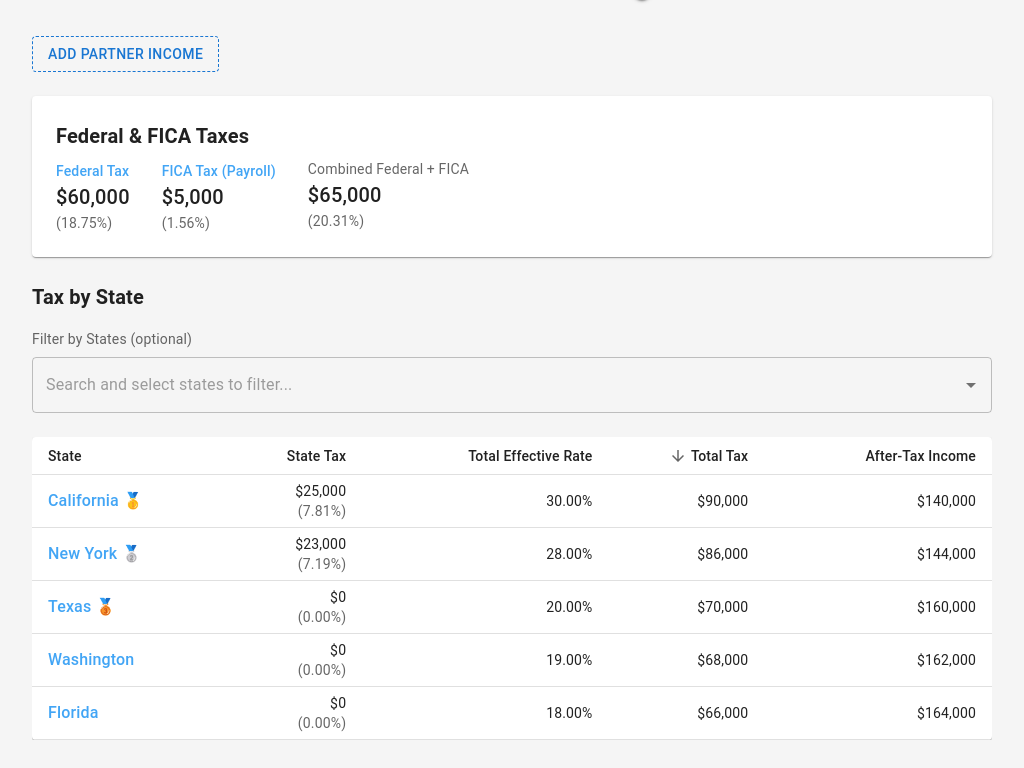
UsTaxTable › ranks emojis based on filtered states, not all states
(page scrolled)
Expected: the button "California 🥇" is shown, 48,489 -> 143,513
Press the mouse on the dropdown with placeholder "Search and select states to filter..." at [497, 385], box 41,366 -> 953,404
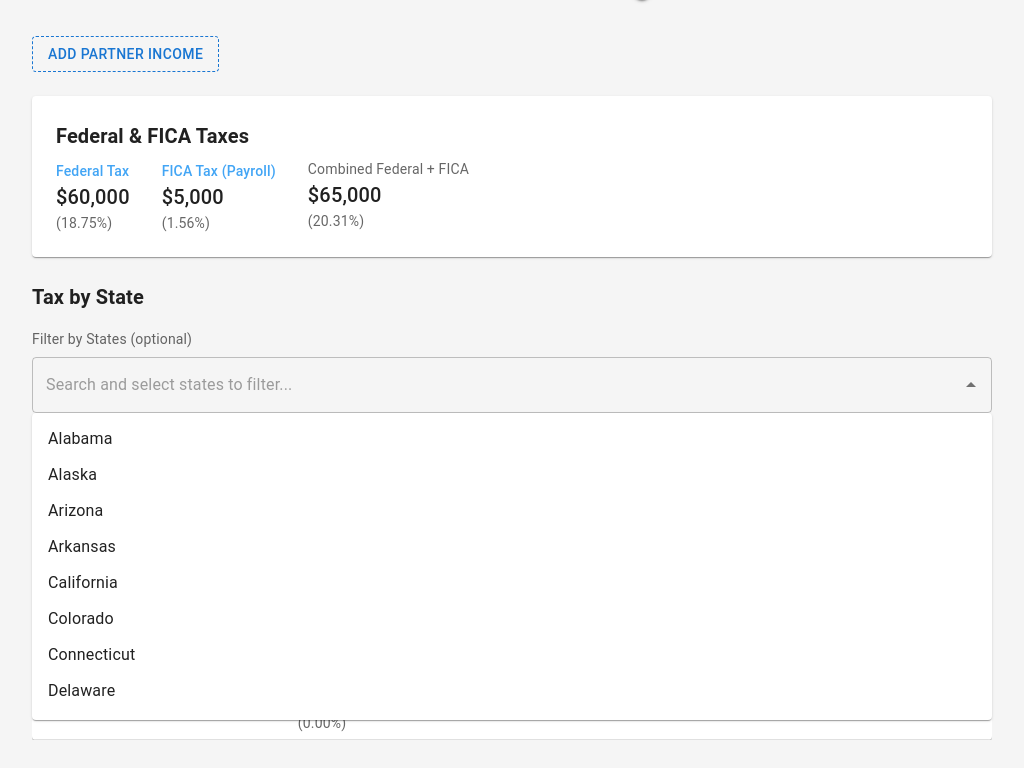
Click the option "California".
click(83, 582)  # box 48,573 -> 118,592
(page scrolled)
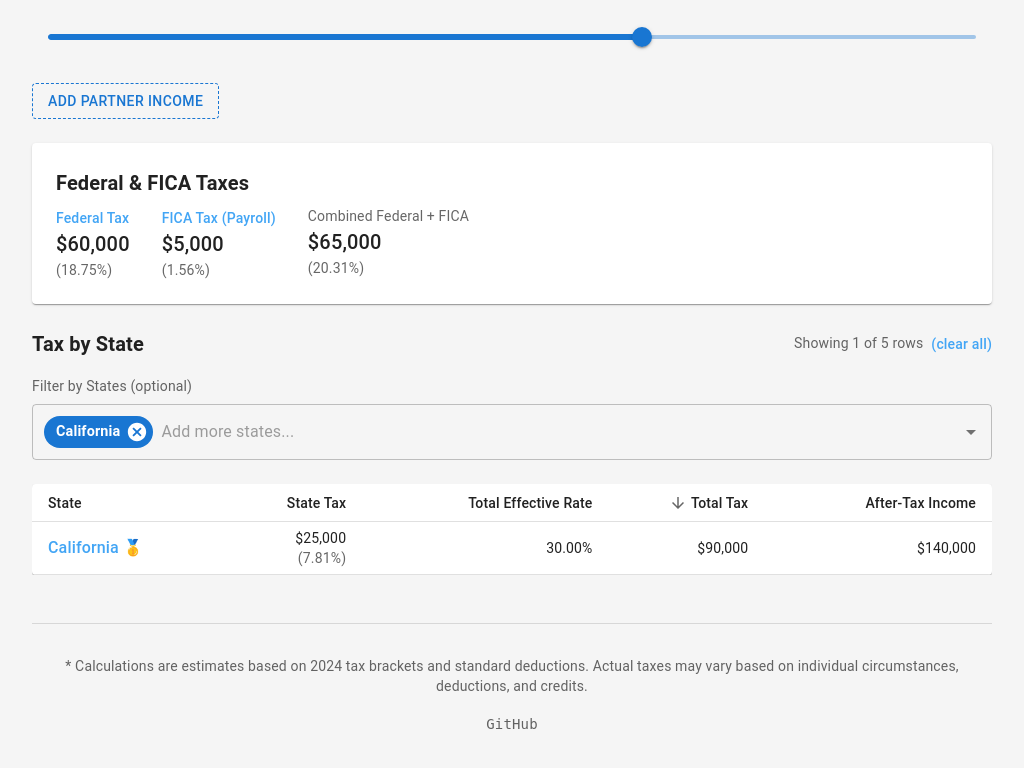
Press the mouse on the dropdown with placeholder "Search and select states to filter" at [542, 432], box 156,413 -> 927,451
(page scrolled)
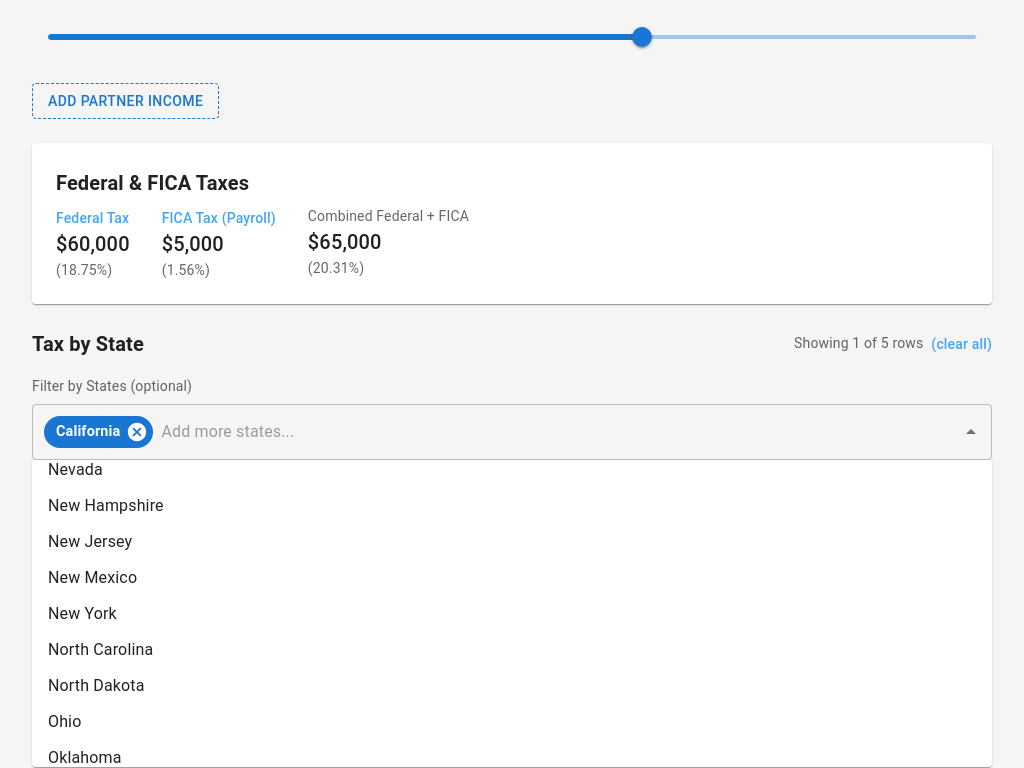
Click the option "New York".
click(82, 614)  # box 48,604 -> 117,623
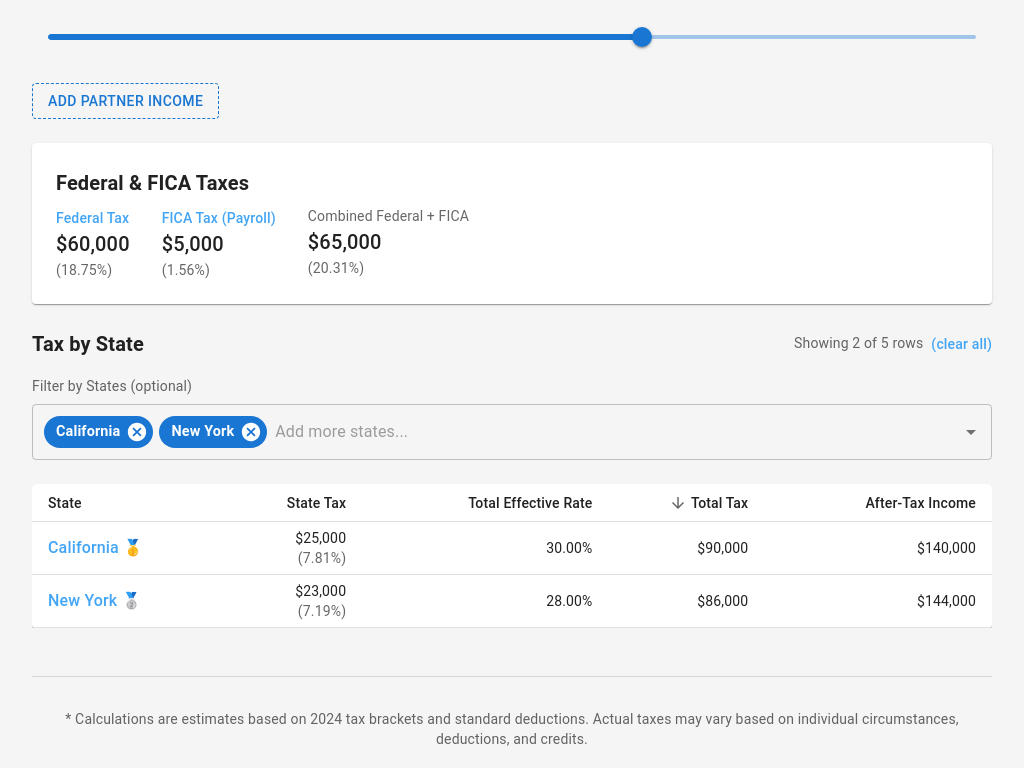
Press the mouse on the dropdown with placeholder "Search and select states to filter" at [599, 432], box 270,413 -> 927,451
(page scrolled)
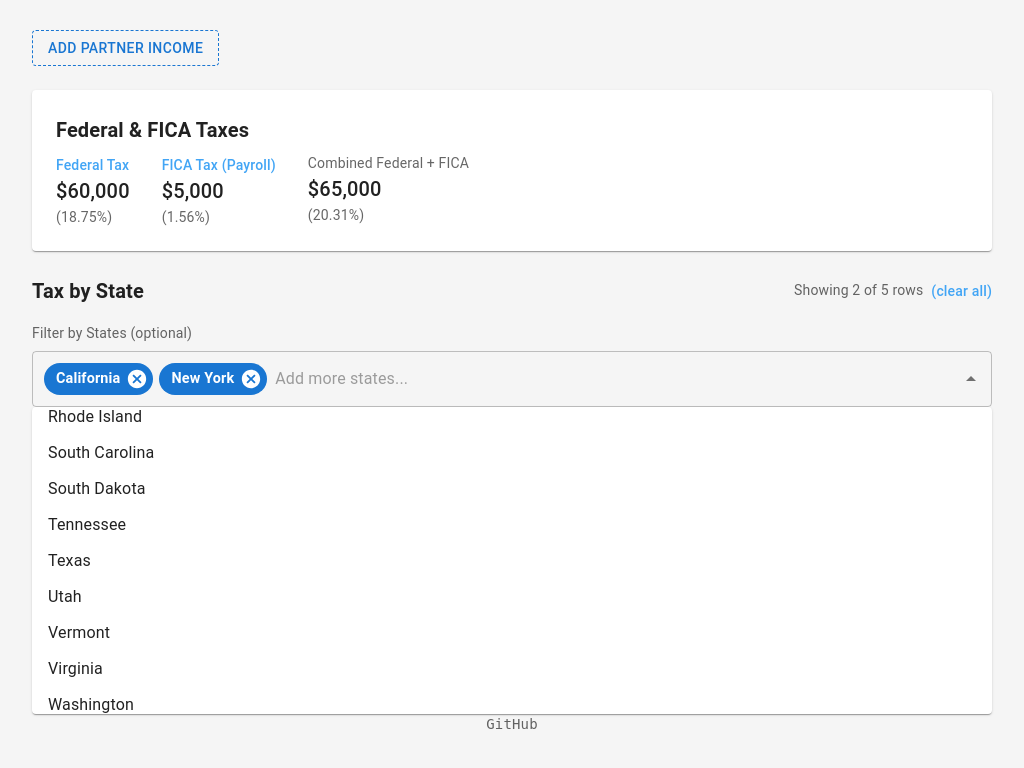
Click the option "Texas".
click(69, 560)  # box 48,551 -> 91,570
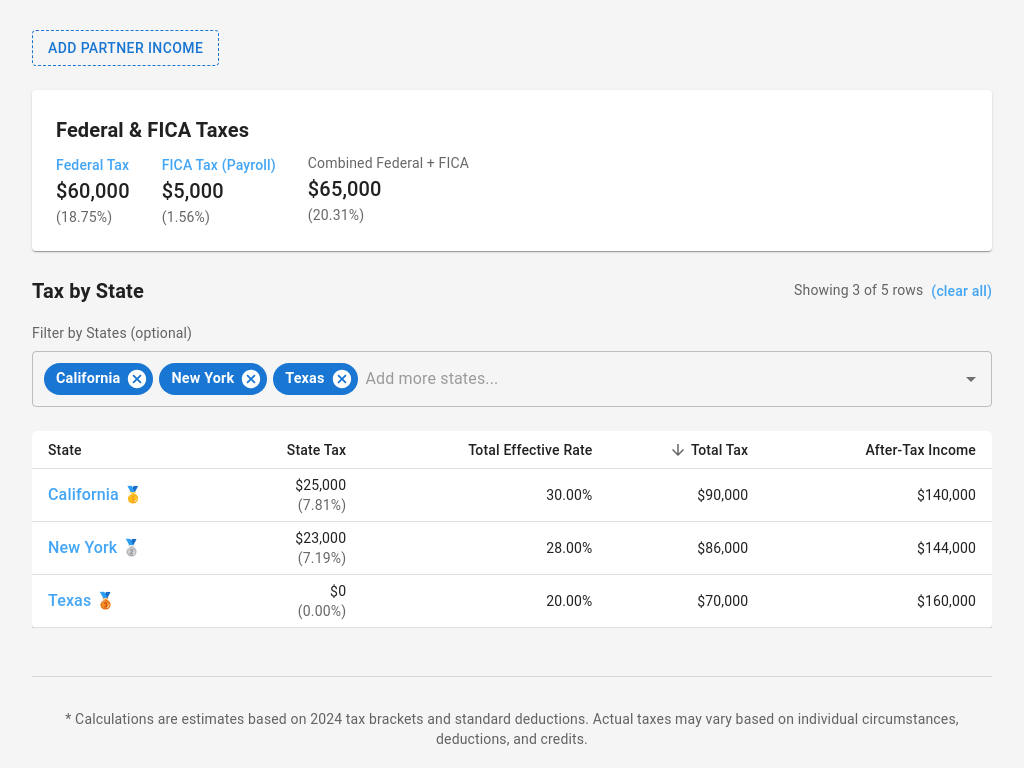
Expected: the button "California 🥇" is shown, 48,483 -> 143,507
Now the button "New York 🥈" is shown, box 48,536 -> 142,560
Now the button "Texas 🥉" is shown, box 48,589 -> 116,613
